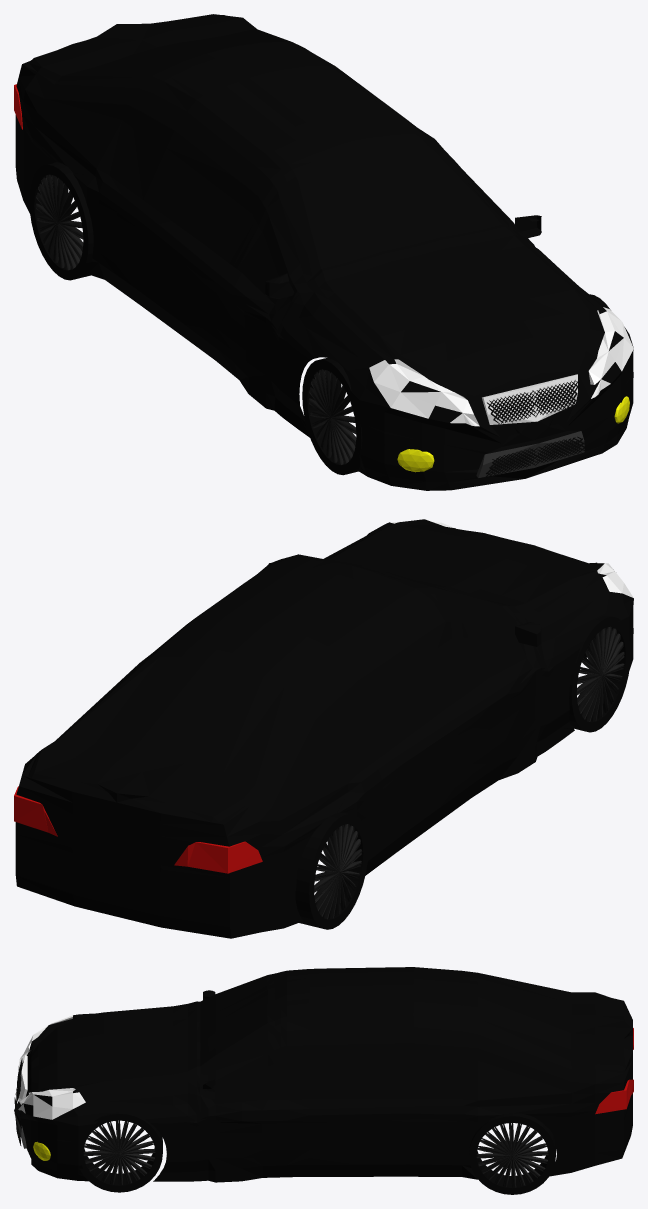
The model's file is CROWN_holefilled.obj.
3 renders of one model, top to bottom at view 1: azimuth 30°, elevation 25°; view 2: azimuth 150°, elevation 25°; view 3: azimuth 270°, elevation 25°, orthographic. The views are drawn at different scales.
Visible parts, largest first — view 1: object 2; view 2: object 2; view 3: object 2.
Part boxes in pixels (left/top/right/bottom): object 2: left=14, top=14, right=633, bottom=490; object 2: left=14, top=519, right=633, bottom=938; object 2: left=14, top=967, right=633, bottom=1194.
Bounding box in the file's own units: 38.53 × 28.52 × 99.82.
